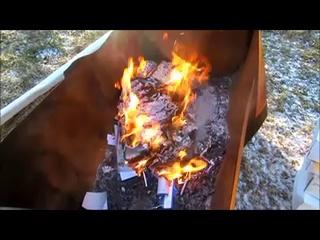Fire: (127, 56, 186, 175)
